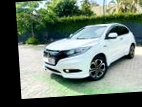car: (40, 21, 138, 84)
